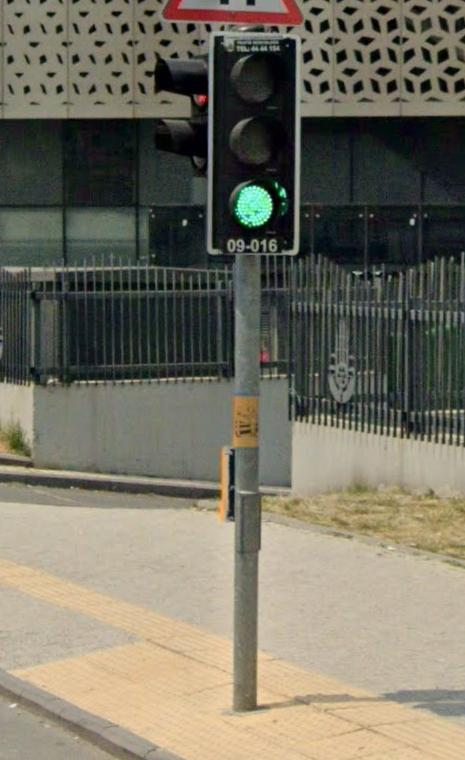greenlight: (217, 43, 294, 255)
